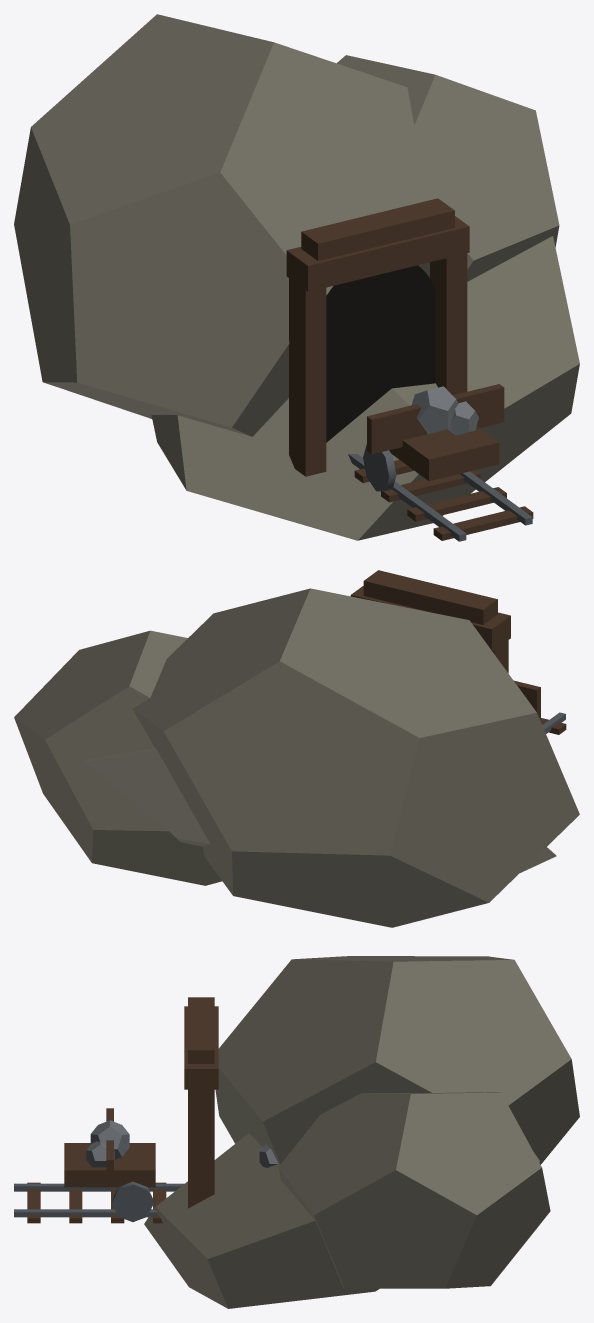
The model's file is mine-L1.glb.
The picture shows the model from 3 angles, top to bottom: view 1: azimuth 30°, elevation 25°; view 2: azimuth 150°, elevation 25°; view 3: azimuth 270°, elevation 25°; orthographic projection. The views are drawn at different scales.
Parts seen in each view (by area): view 1: building-mine-L1; view 2: building-mine-L1; view 3: building-mine-L1.
Boxes of the visible parts, x1,y1,x2,y2 form: building-mine-L1: [14, 14, 579, 541]; building-mine-L1: [14, 570, 579, 927]; building-mine-L1: [14, 956, 579, 1308].
Bounding box in the file's own units: 2.45 × 1.71 × 2.8.
